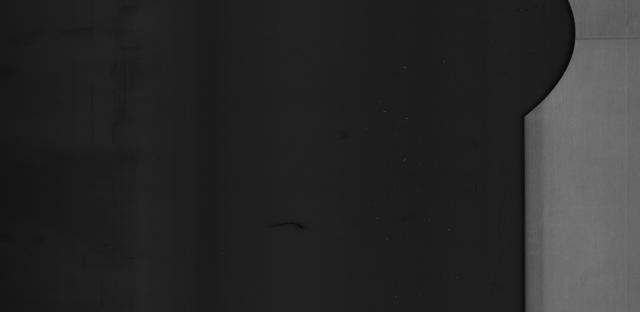crescent_gap: (511, 1, 592, 130)
welding_line: (566, 28, 640, 48)
